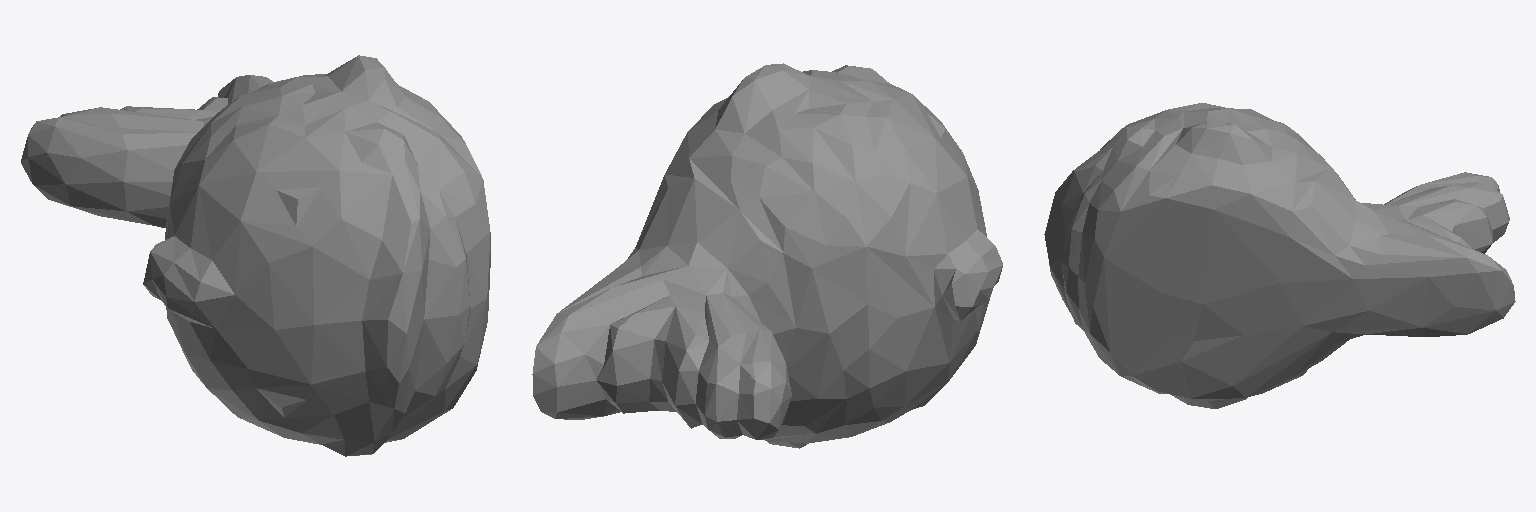
The robot description file, URDF, robot "cube.urdf":
<?xml version="0.0" ?> 
<robot name="cube.urdf"> 
<link name="legobrick"> 
<contact> 
<lateral_friction value="1.0"/>
<rolling_friction value="0.0"/>
<contact_cfm value="0.0"/>
<contact_erp value="1.0"/>
</contact> 
<inertial> 
<origin rpy="0 0 0" xyz="0.0 0.0 0.0"/> 
<mass value="0.1"/> 
<inertia ixx="1" ixy="0" ixz="0" iyy="1" iyz="0" izz="1"/> 
</inertial> 
<visual> 
<origin rpy="1.570796 0 0" xyz="-0.0021552512437810955 0.0008458880597014897 -5.8338308457711436e-05"/> 
<geometry> 
<mesh filename="Fish_800_tex.obj" scale="1 1 1"/> 
</geometry> 
<material name="yellow"> 
<color rgba="0.6 0.6 0.6 1"/> 
</material> 
</visual> 
<collision> 
<origin rpy="1.570796 0 0" xyz="-0.0021552512437810955 0.0008458880597014897 -5.8338308457711436e-05"/> 
<geometry> 
<mesh filename="Fish_800_tex_col.obj" scale="1 1 1"/> 
</geometry> 
</collision> 
</link> 
</robot>

--- Facts derived from the render (not from the file) ---
3 views of the same robot in one strip: view 1: azimuth 30°, elevation 25°; view 2: azimuth 150°, elevation 25°; view 3: azimuth 270°, elevation 25° (orthographic).
Model cube.urdf with 1 links and 0 joints (none), rooted at legobrick, posed every joint at zero.
Links seen in each view (by area): view 1: legobrick; view 2: legobrick; view 3: legobrick.
Boxes of the visible links, x1,y1,x2,y2 form: legobrick: [21, 55, 490, 456]; legobrick: [532, 63, 1002, 448]; legobrick: [1044, 103, 1515, 408].
Bounding box of the posed robot: 0.0358 × 0.0656 × 0.045 m (x, y, z).
1 mesh visuals loaded from 1 distinct referenced files (1 OBJ).